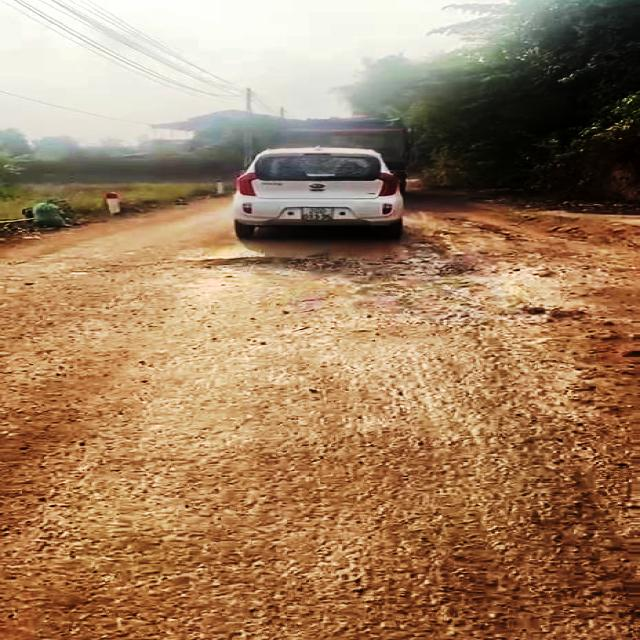pothole: (164, 254, 381, 276)
